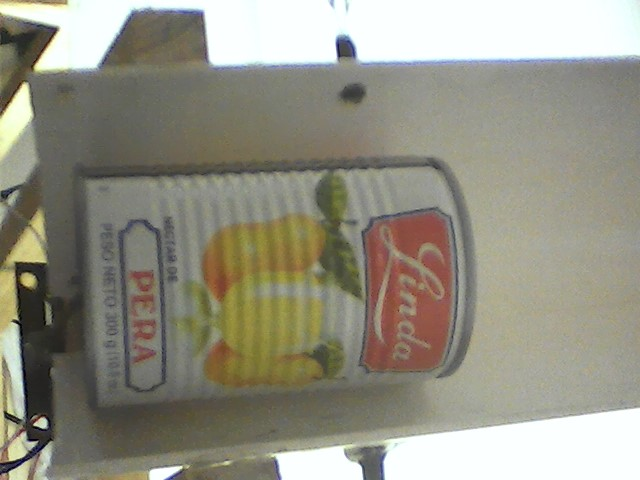lata: (65, 149, 487, 424)
